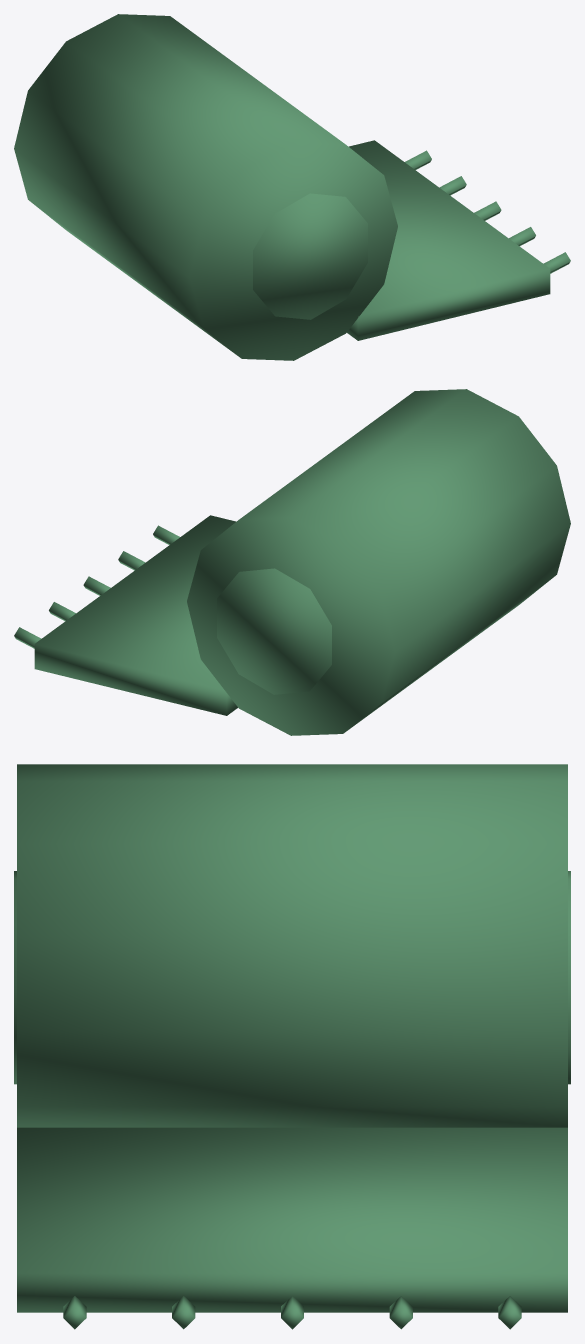
File: manta_vieja.glb
The picture shows the model from 3 angles, top to bottom: view 1: azimuth 30°, elevation 25°; view 2: azimuth 150°, elevation 25°; view 3: azimuth 270°, elevation 25°; orthographic projection. The views are drawn at different scales.
Parts seen in each view (by area): view 1: MantaVieja; view 2: MantaVieja; view 3: MantaVieja.
Boxes of the visible parts, <box> form: MantaVieja: <box>14,14,570,360</box>; MantaVieja: <box>14,389,570,735</box>; MantaVieja: <box>14,764,570,1329</box>.
Bounding box in the file's own units: 0.4962 × 0.26 × 0.384.
